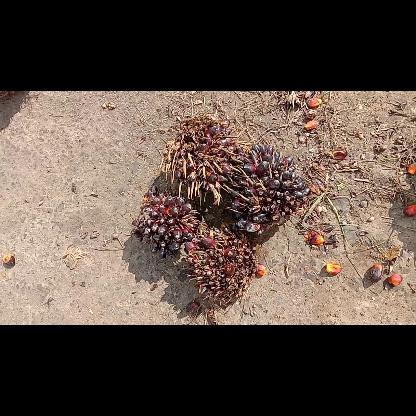TBS abnormal: (226, 144, 309, 235), (160, 116, 242, 204), (184, 222, 256, 302), (130, 186, 199, 258)
